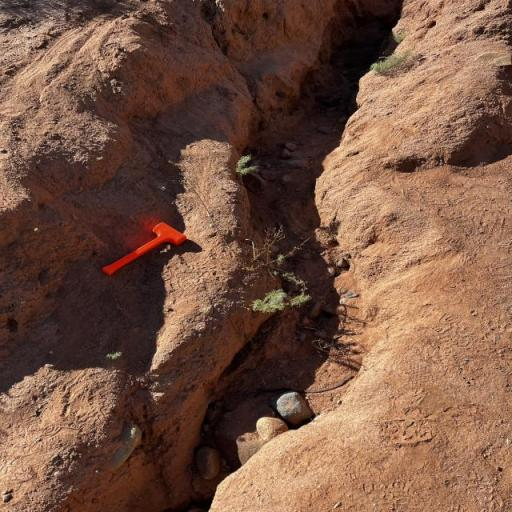mallet: (102, 222, 187, 276)
